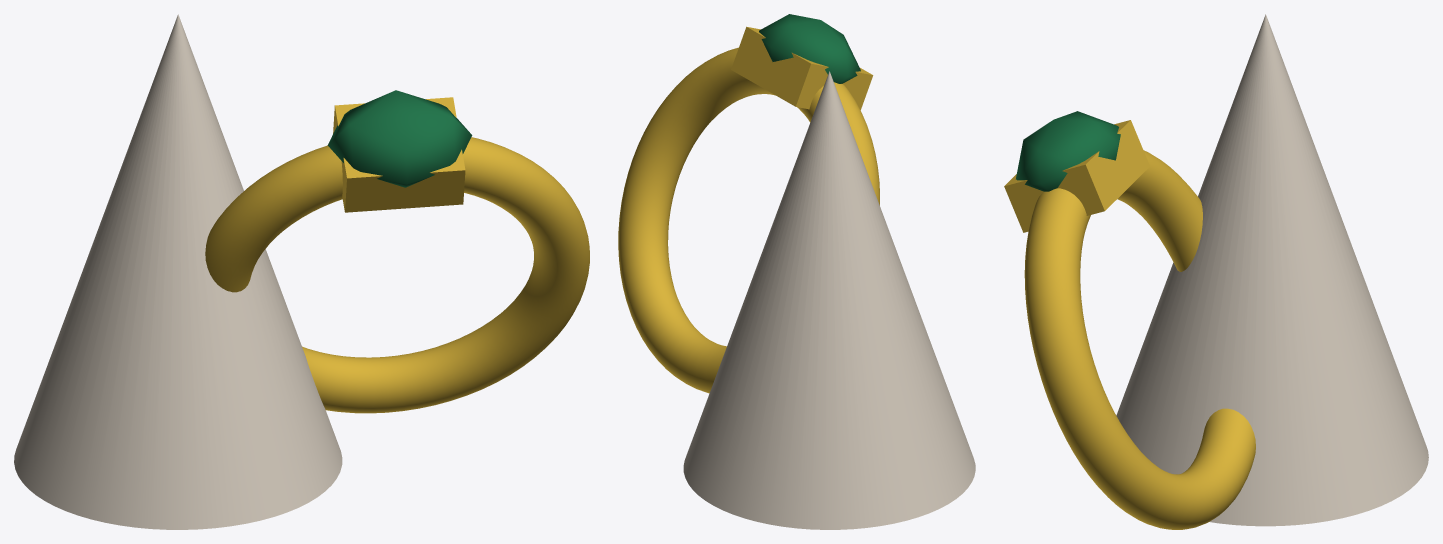
Rendered from gemstone_ring.glb.
3 views of the same model, side by side, from view 1: azimuth 30°, elevation 25°; view 2: azimuth 150°, elevation 25°; view 3: azimuth 270°, elevation 25° (orthographic). The views are drawn at different scales.
Bounding box in the file's own units: 1.42 × 1.32 × 1.15.
